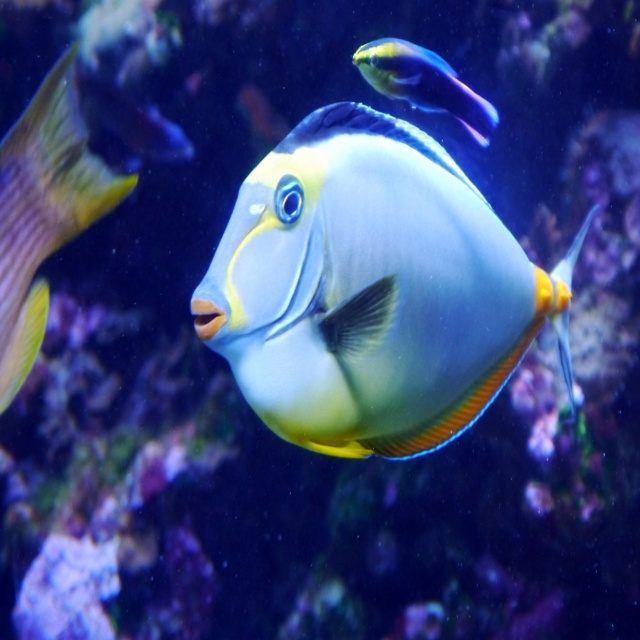Fish: (190, 103, 603, 463), (0, 40, 138, 412), (353, 38, 500, 144)
